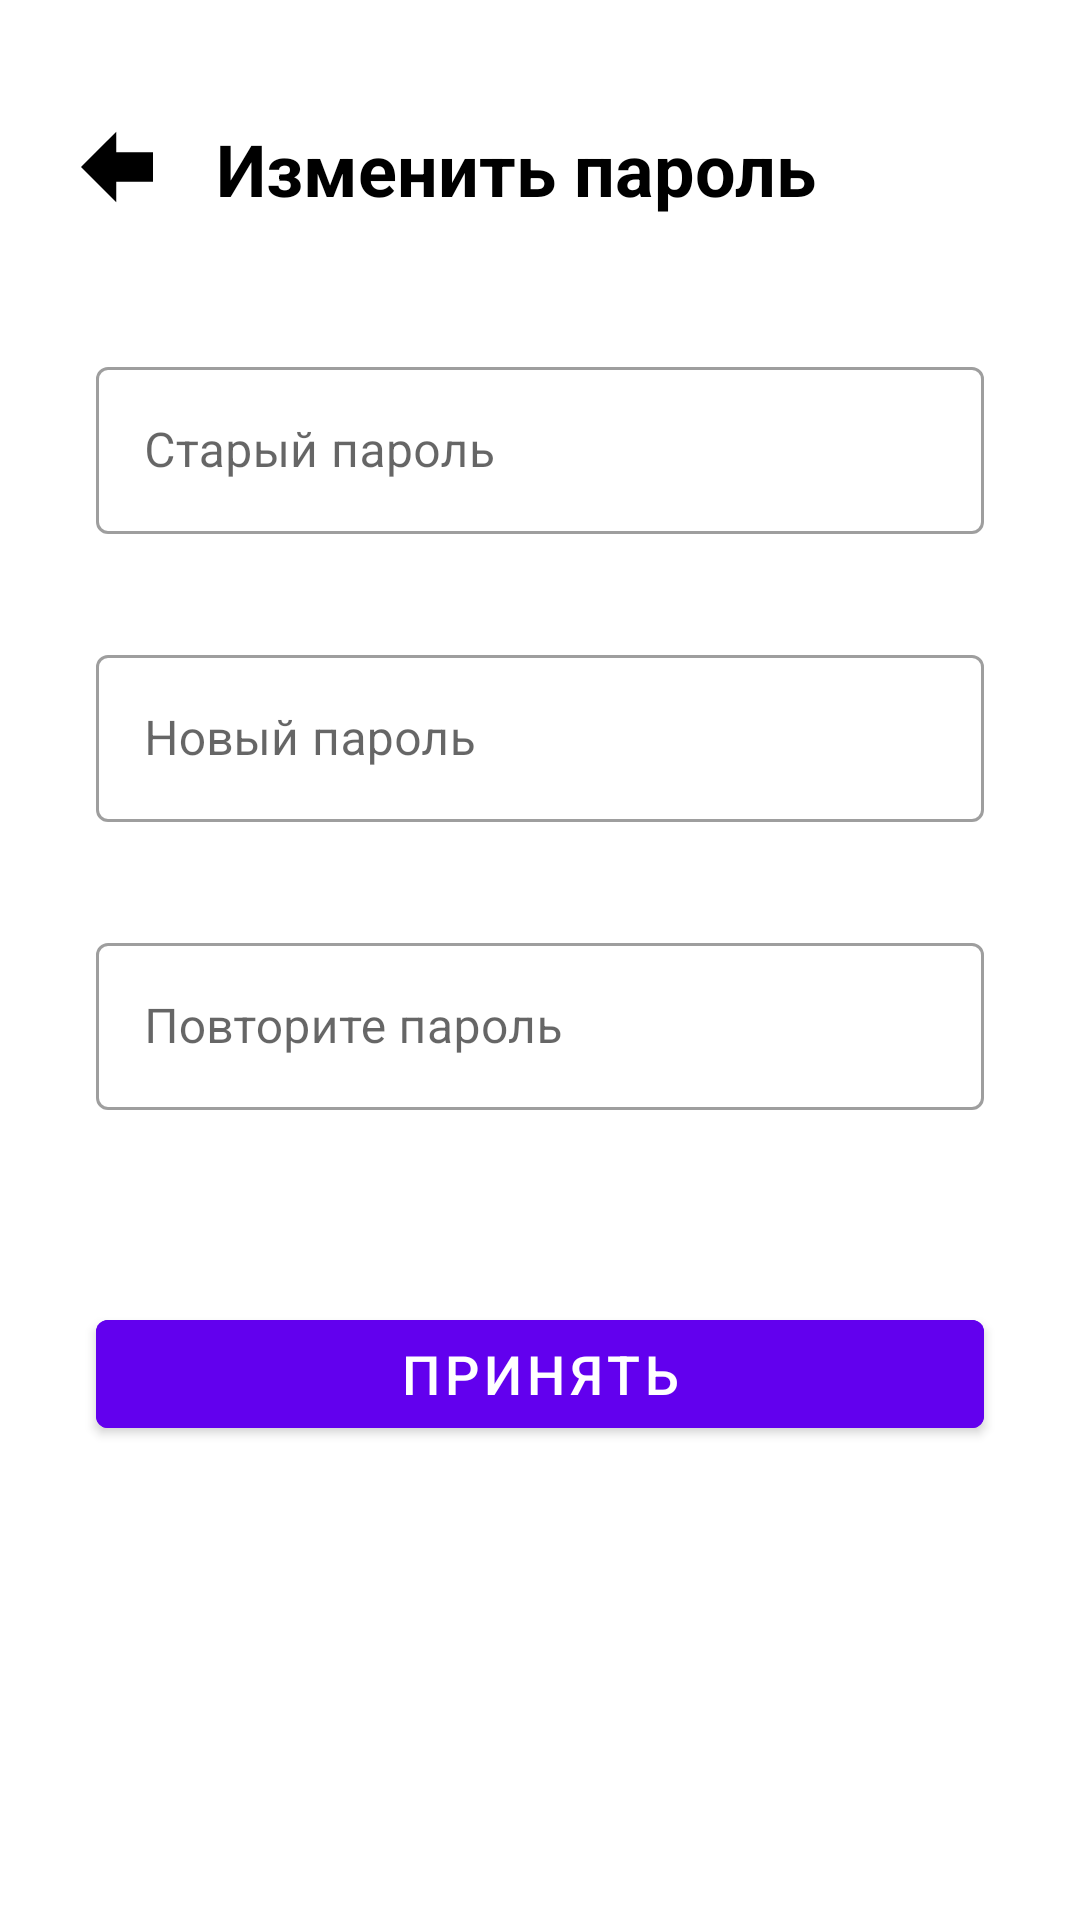

Icons on this 1080x1920 Android screen, each with the point to tap as (x,y):
back arrow: (117,167)
